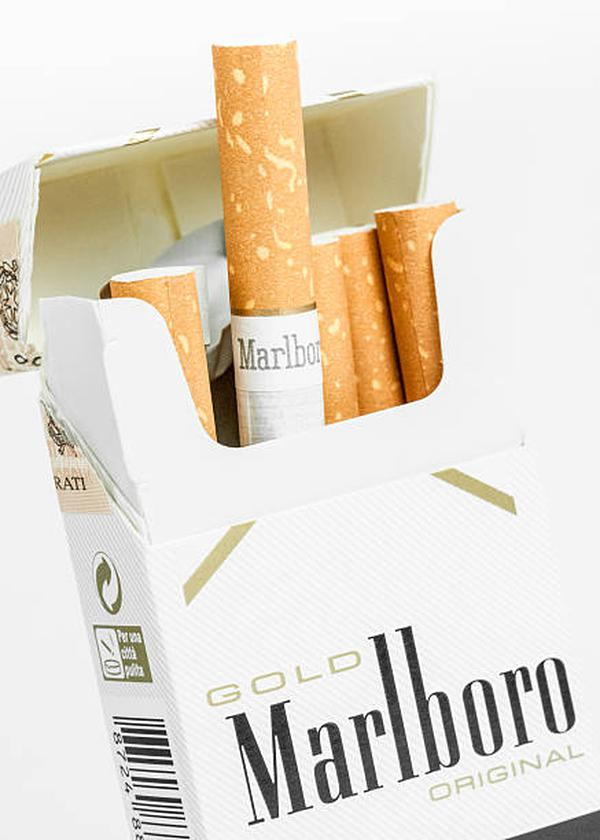marlboro_gold: (184, 453, 575, 840)
